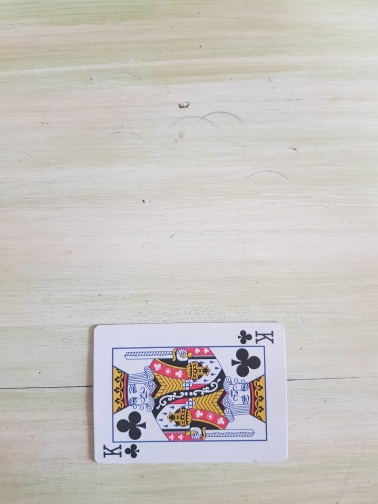king: (92, 321, 290, 465)
